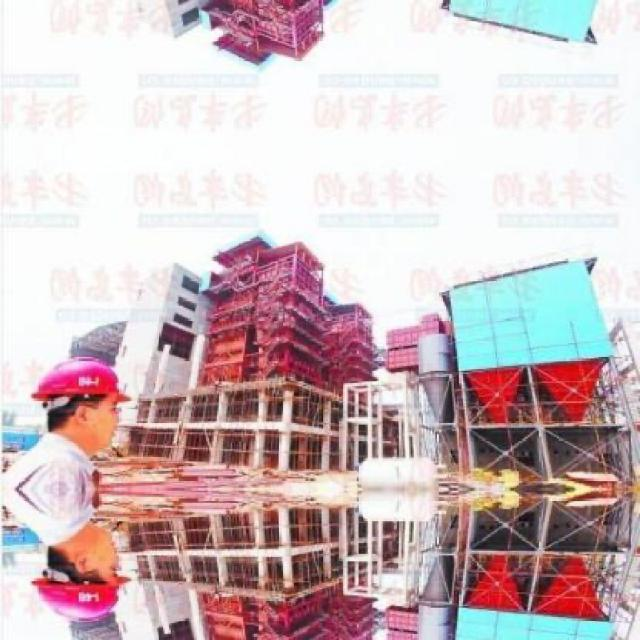helmet: (24, 346, 134, 446), (24, 531, 134, 631)
